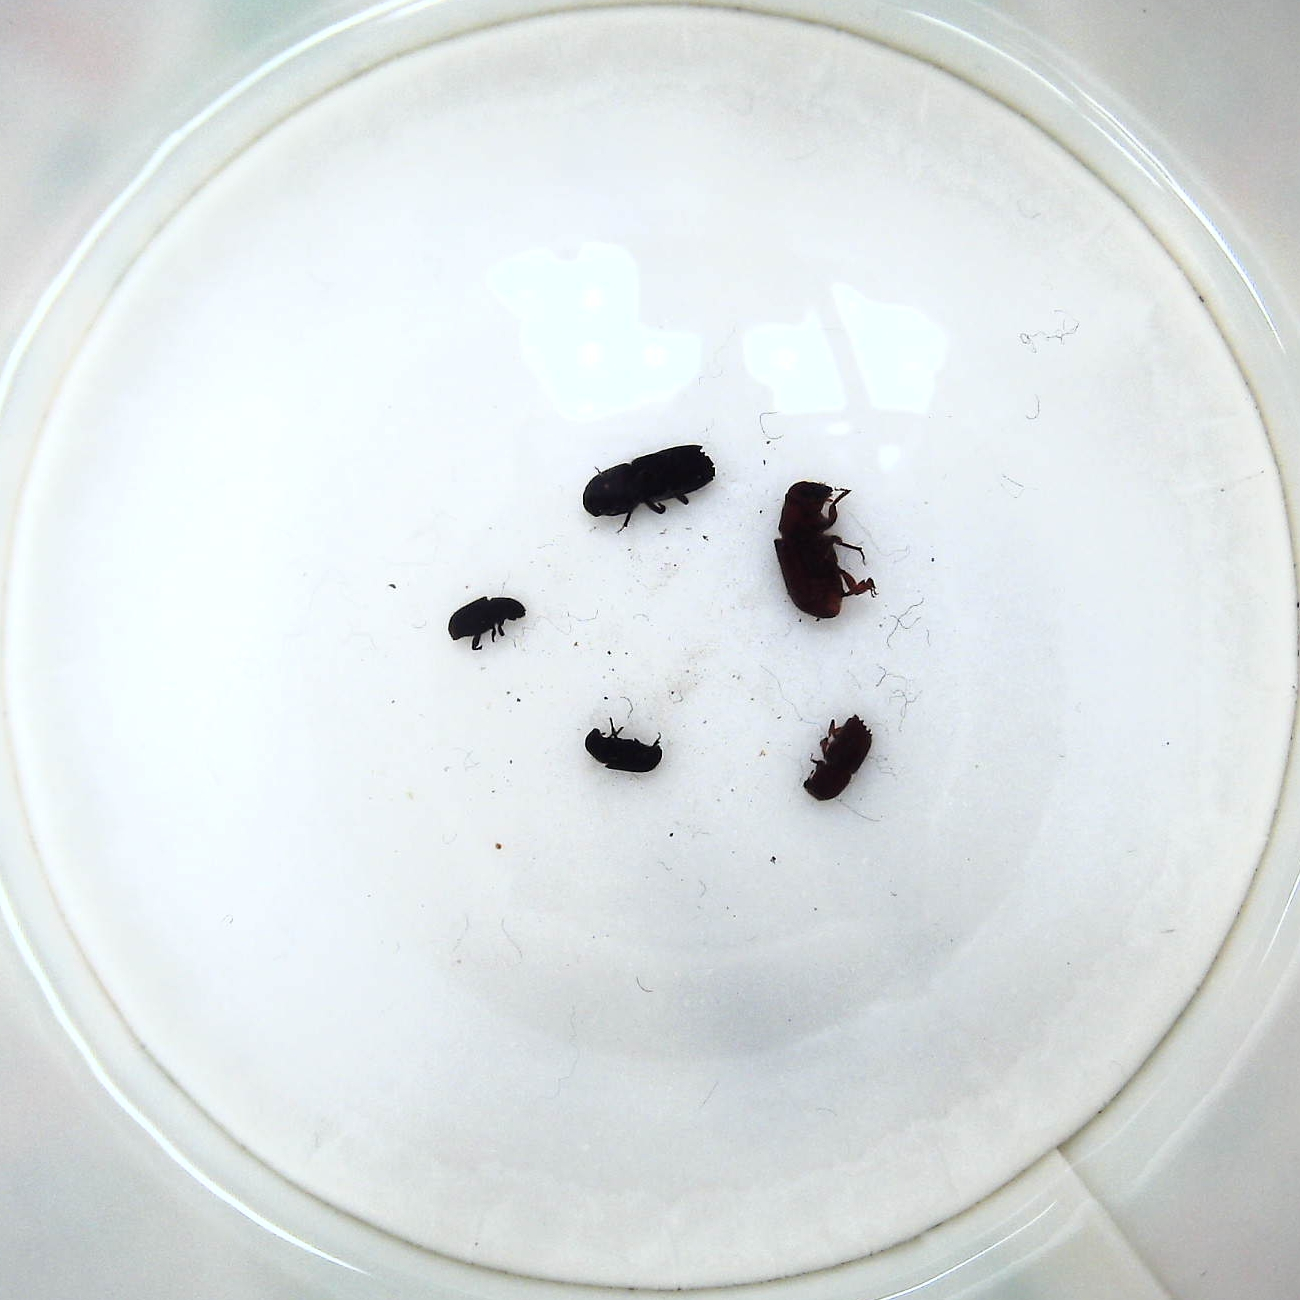Boerner: (579, 440, 725, 532)
Leconte: (774, 476, 871, 627)
armandi: (440, 593, 529, 658)
coleoptera: (581, 719, 664, 780)
linnaeus: (801, 702, 871, 807)
